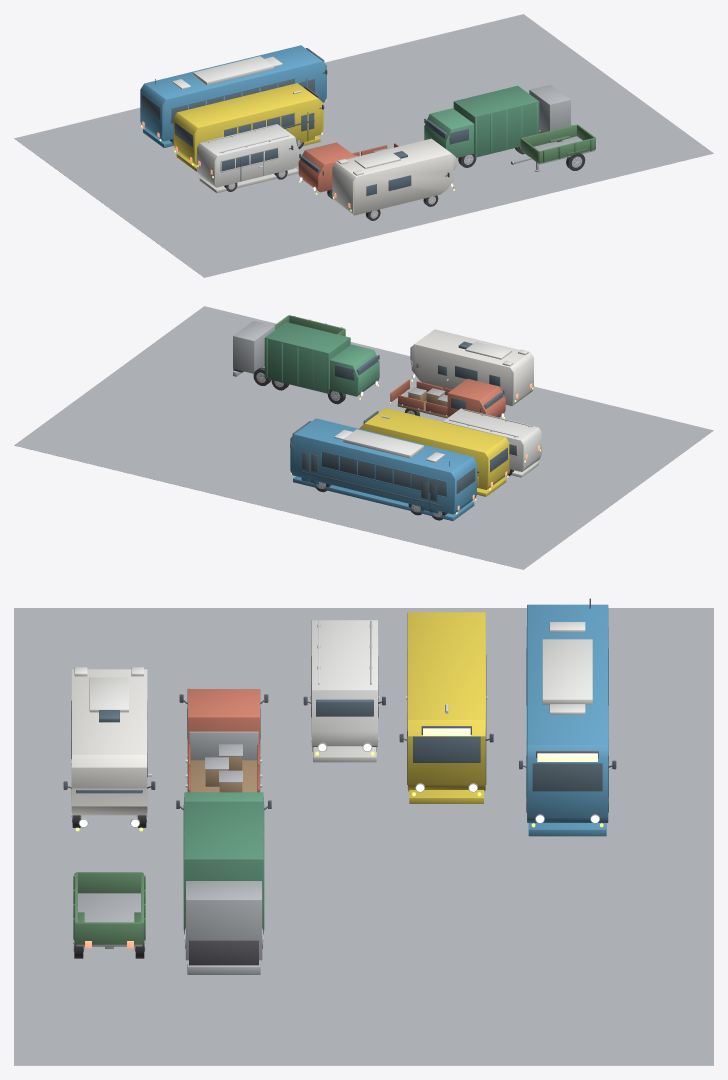
Rendered from th40_busbahnhof.glb.
3 renders of one model, top to bottom at view 1: azimuth 30°, elevation 25°; view 2: azimuth 150°, elevation 25°; view 3: azimuth 270°, elevation 25°, orthographic. The views are drawn at different scales.
Parts seen in each view (by area): view 1: Cube, Aufbau, Buskasten, Postkasten, Cube.308, Buskasten.001, Fahrerhaus.001, Fahrerhaus, Cube.314, Cube.056, Cube.532, Cube.002 (+5 smaller); view 2: Cube, Buskasten, Aufbau, Postkasten, Cube.308, Buskasten.001, Fahrerhaus, Cube.013, Cube.314, Fahrerhaus.001, Cube.056, Cube.001 (+2 smaller); view 3: Cube, Postkasten, Buskasten, Aufbau, Buskasten.001, Cube.308, Cube.314, Cube.056, Fahrerhaus.001, Cube.044, Cube.526, Cube.162 (+12 smaller).
Boxes of the visible parts, box(x1,y1,x2,y2) form: Cube: box(14, 14, 713, 277); Aufbau: box(332, 138, 456, 215); Buskasten: box(140, 45, 326, 141); Postkasten: box(173, 83, 323, 164); Cube.308: box(453, 85, 539, 157); Buskasten.001: box(197, 124, 301, 187); Fahrerhaus.001: box(298, 142, 355, 192); Fahrerhaus: box(424, 108, 474, 157); Cube.314: box(529, 84, 570, 131); Cube.056: box(193, 56, 273, 85); Cube.532: box(539, 138, 595, 163); Cube.002: box(171, 79, 294, 123); Cube: box(14, 306, 713, 569); Buskasten: box(290, 418, 476, 514); Aufbau: box(410, 329, 533, 405); Postkasten: box(359, 408, 509, 489); Cube.308: box(264, 322, 350, 393); Buskasten.001: box(443, 408, 541, 471); Fahrerhaus: box(330, 344, 379, 396); Cube.013: box(322, 452, 445, 496); Cube.314: box(233, 321, 274, 373); Fahrerhaus.001: box(447, 378, 505, 417); Cube.056: box(343, 429, 423, 458); Cube.001: box(293, 476, 474, 520); Cube: box(14, 608, 713, 1065); Postkasten: box(407, 612, 485, 789); Buskasten: box(527, 604, 608, 822); Aufbau: box(71, 669, 147, 815); Buskasten.001: box(311, 620, 377, 746); Cube.308: box(184, 801, 263, 933); Cube.314: box(185, 881, 262, 960); Cube.056: box(542, 639, 592, 704); Fahrerhaus.001: box(187, 688, 260, 759); Cube.044: box(532, 763, 602, 791); Cube.526: box(76, 893, 142, 946); Cube.162: box(413, 736, 480, 762).
Size of the model in its own units: 34 by 3.69 by 22.
